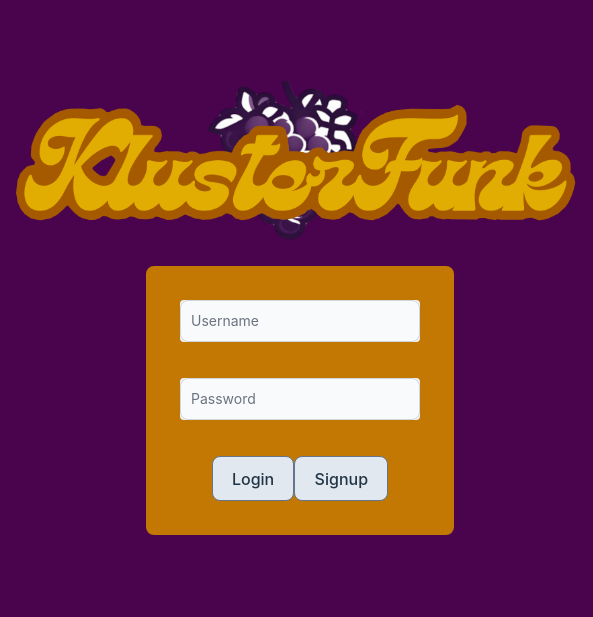
Test: Login › Warning appears if password and confirm password do not match
# Locating the sign up button and clicking it
Step 1. Click the button "Signup" → (341, 479), box [294,456,388,501]
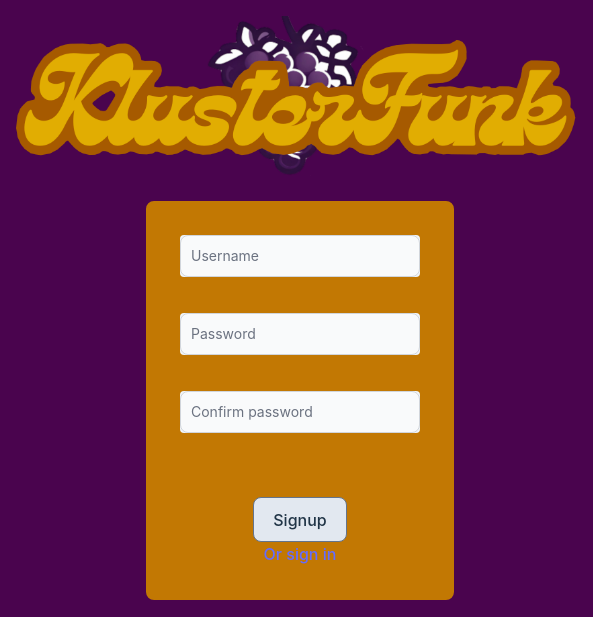
# Locating pw input and using fireEvent.change to put in pw value
Step 2. Type "sandwich" into the password field with placeholder "Password" → (300, 334), box [180,313,420,355]
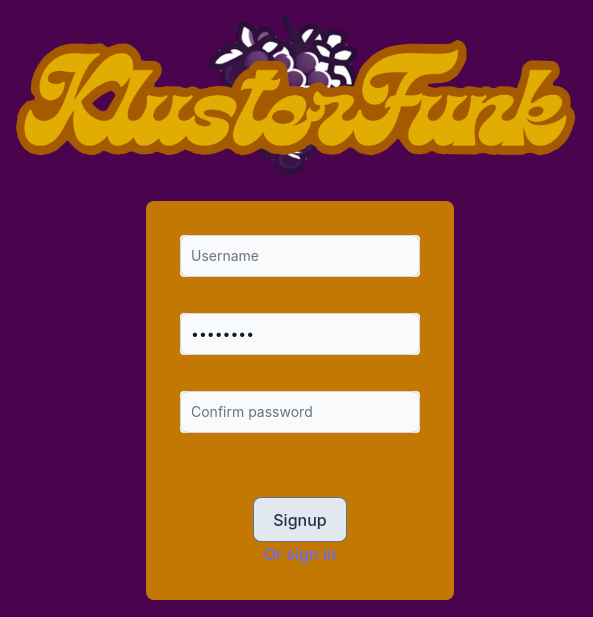
Step 3. Type "sandwic" into the password field with placeholder "Confirm password" → (300, 412), box [180,391,420,433]
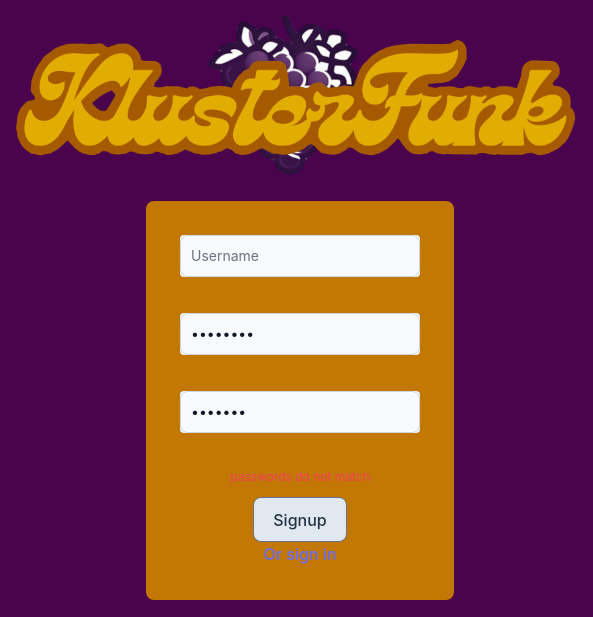
Check: the element showing "passwords do not match" is shown, box [230,469,370,484]
